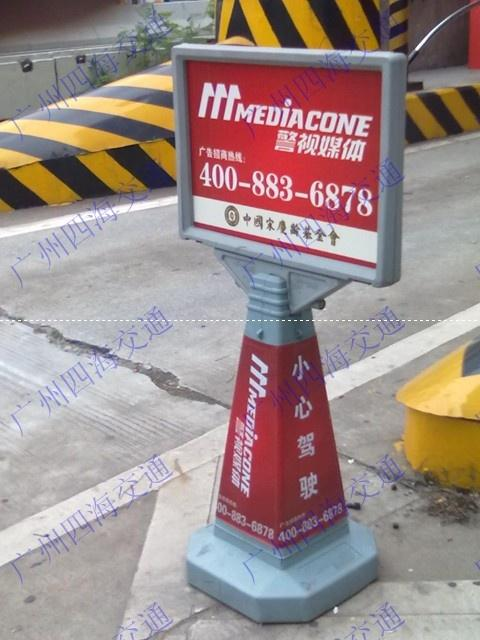cone_barrel: (185, 262, 370, 619)
